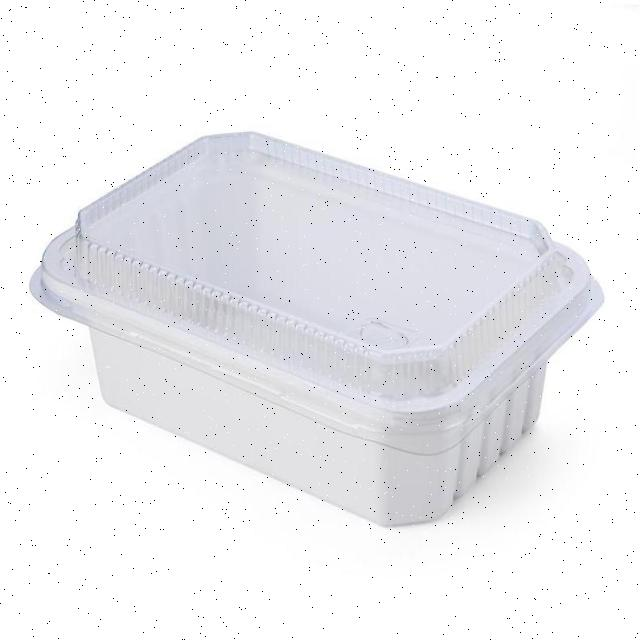styrofoam: (28, 128, 604, 528)
